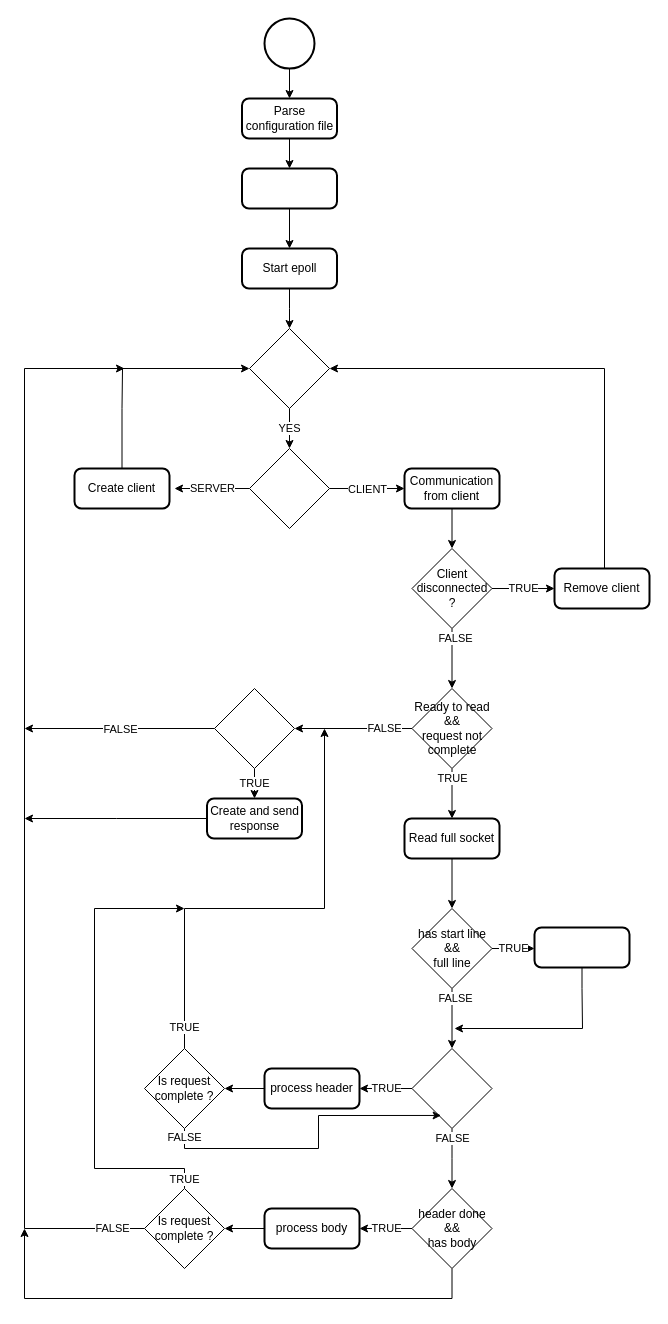
Image size: 668x1324. Some labels were removed from this diagram. The centre of each missing label's shape, as x and y in pixels:
"Configure virtual servers" belongs at point 289,188.
"Event from socket ?" belongs at point 289,368.
"header not done && full line ?" belongs at point 451,1088.
"process line as start line" belongs at point 581,947.
"Ready to write && request complete" belongs at point 254,728.
"Start" belongs at point 289,43.
"Type of socket ?" belongs at point 289,488.
